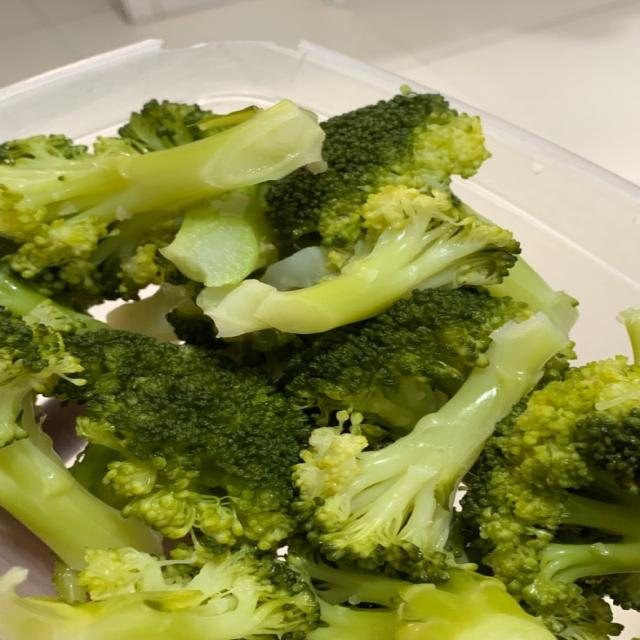broccoli: (198, 93, 519, 337), (294, 314, 566, 581), (0, 100, 324, 296), (54, 329, 312, 548), (462, 356, 639, 639), (197, 186, 519, 337), (0, 308, 159, 568), (280, 288, 530, 432), (267, 92, 489, 253), (0, 545, 319, 639), (290, 554, 554, 639)
